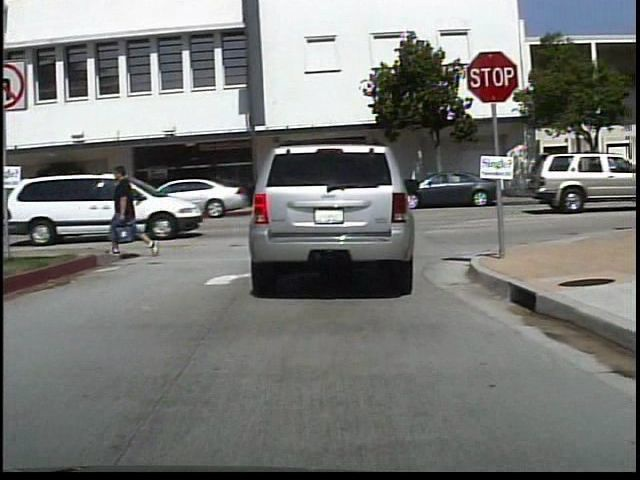person: (101, 162, 158, 260), (71, 175, 94, 222), (43, 174, 67, 218)
